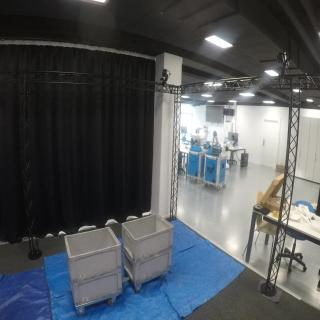Box4G: (63, 226, 124, 285), (122, 213, 176, 264), (123, 243, 175, 288), (70, 268, 124, 310)
